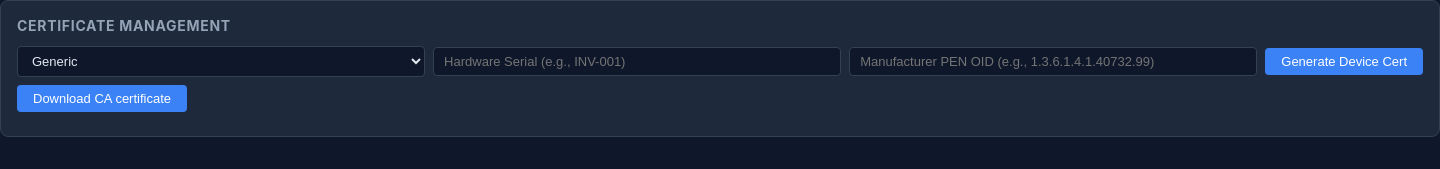
Test: CertPanel › refuses to save an empty CA rather than writing a zero-byte trust anchor
The width and height of the screenshot is (1440, 169).
Expected: the dropdown with id "deviceType" is enabled, [17, 46, 425, 77]
Click the button with test id "download-ca".
click(102, 98)  # box [17, 85, 187, 112]
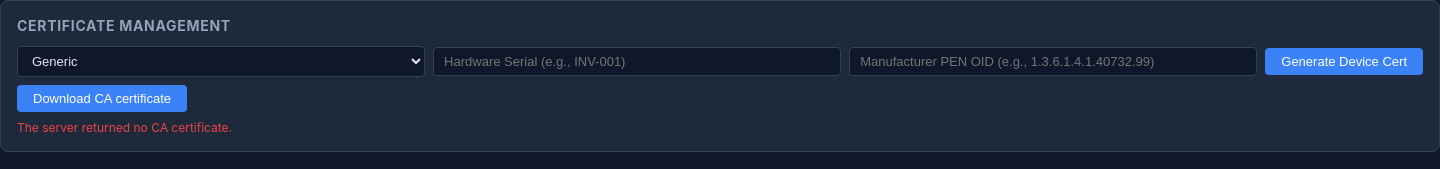
Now the text with test id "ca-result" reads "The server returned no CA certificate.", box [17, 120, 232, 135]
